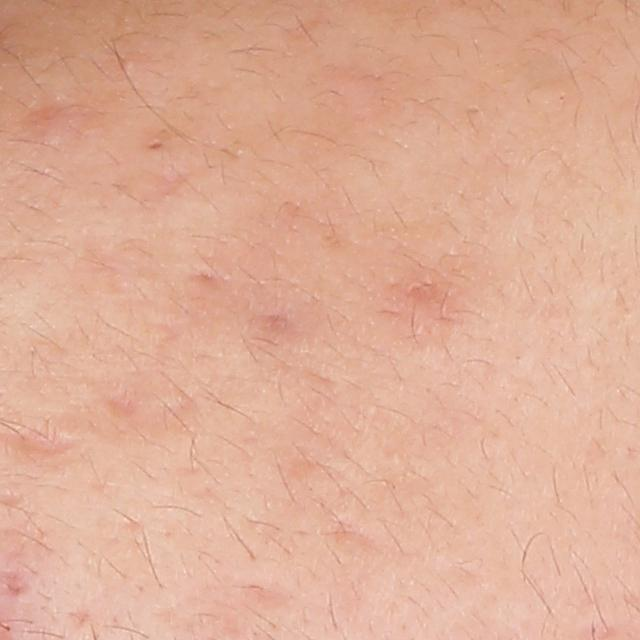atrophic_scar: (316, 510, 399, 553), (84, 377, 152, 424)
comedo: (139, 138, 172, 152)
